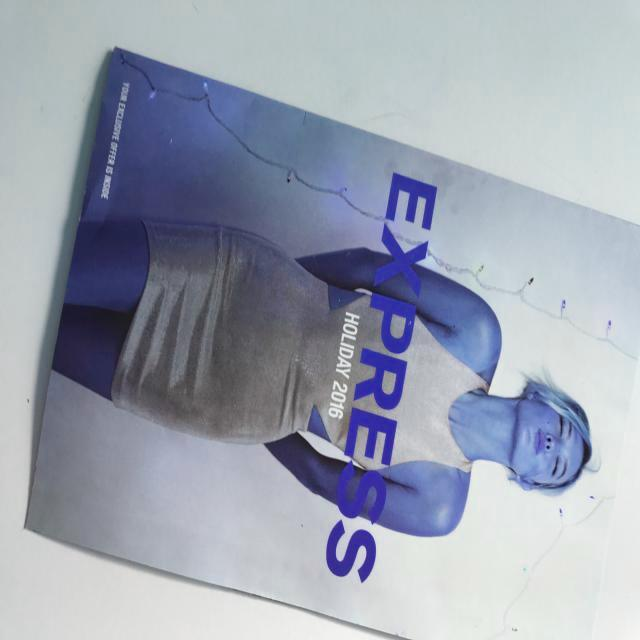paper: (18, 24, 639, 640)
